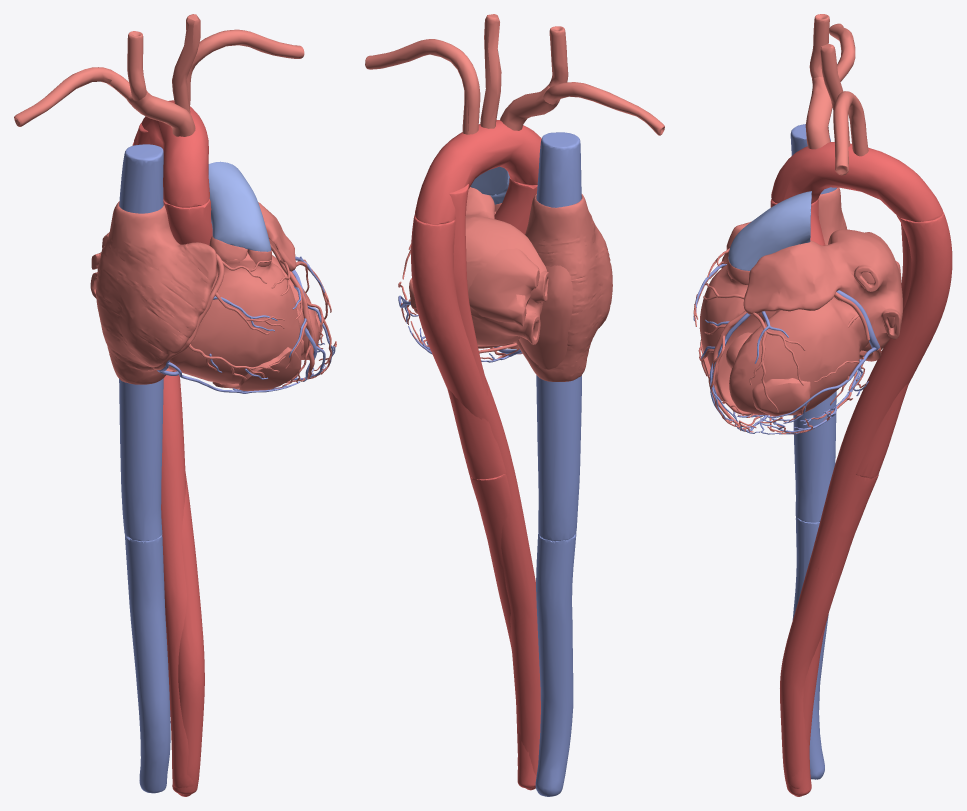
File: heart_mni.glb
The picture shows the model from 3 angles, left to right: view 1: azimuth 30°, elevation 25°; view 2: azimuth 150°, elevation 25°; view 3: azimuth 270°, elevation 25°; orthographic projection. The views are drawn at different scales.
Visible parts, largest first — view 1: heart, aorta, veins, arteries, pulm, cardiacvein; view 2: aorta, heart, veins, arteries, pulm; view 3: aorta, heart, veins, arteries, pulm, cardiacvein.
Boxes of the visible parts, x1,y1,x2,y2 form: heart: (90, 201, 336, 391); aorta: (132, 100, 212, 796); veins: (119, 144, 170, 793); arteries: (14, 14, 304, 136); pulm: (208, 161, 271, 251); cardiacvein: (157, 256, 335, 393); aorta: (411, 120, 541, 790); heart: (398, 187, 612, 381); veins: (535, 132, 581, 796); arteries: (365, 14, 664, 135); pulm: (470, 166, 509, 204); aorta: (770, 142, 952, 796); heart: (693, 187, 902, 434); veins: (790, 124, 836, 779); arteries: (805, 14, 868, 175); pulm: (728, 191, 811, 270); cardiacvein: (693, 264, 879, 434).
Bounding box in the file's own units: 3.37 × 8.54 × 2.63.
